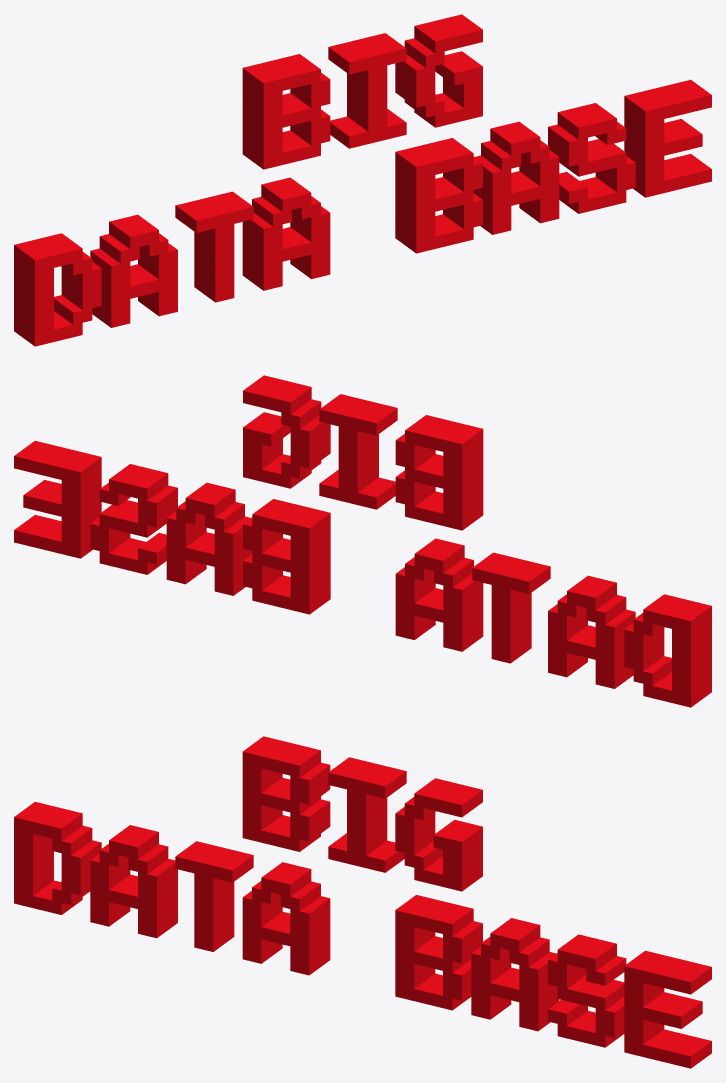
Rendered from titulo.obj.
The picture shows the model from 3 angles, top to bottom: view 1: azimuth 30°, elevation 25°; view 2: azimuth 150°, elevation 25°; view 3: azimuth 330°, elevation 25°; orthographic projection.
Parts seen in each view (by area): view 1: obj_0; view 2: obj_0; view 3: obj_0.
Part boxes in pixels (left/top/right/bottom): obj_0: left=14, top=14, right=711, bottom=346; obj_0: left=14, top=375, right=711, bottom=707; obj_0: left=14, top=736, right=711, bottom=1068.
Size of the model in its own units: 186 by 54.36 by 10.
